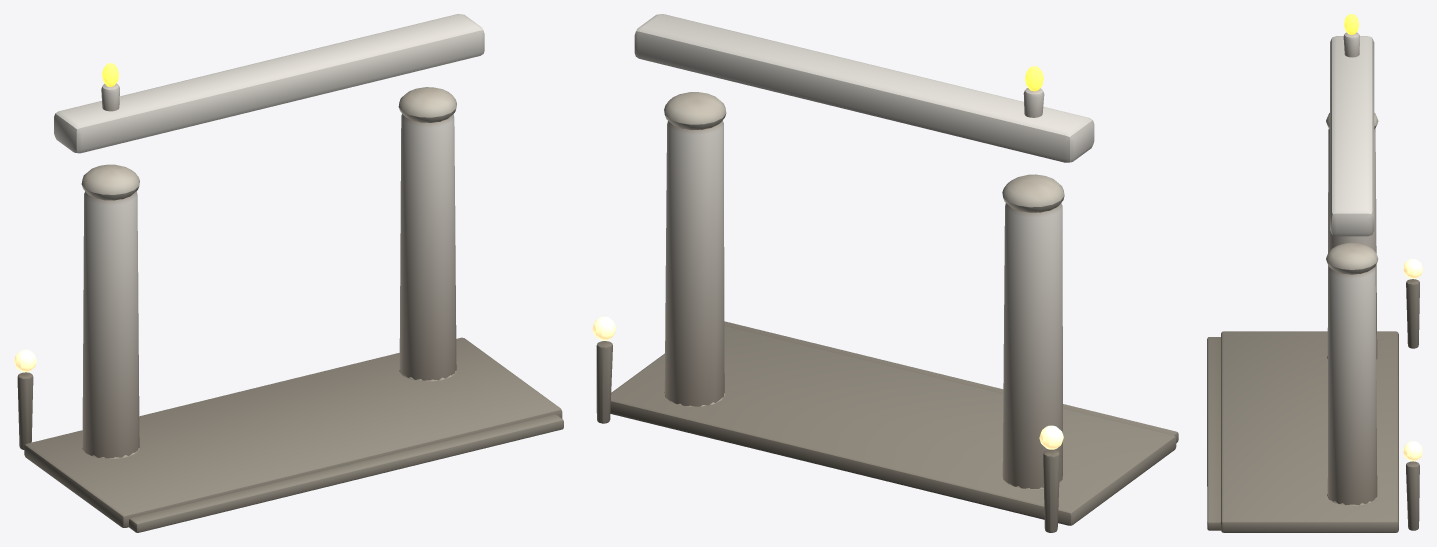
3 views of the same model, side by side, from view 1: azimuth 30°, elevation 25°; view 2: azimuth 150°, elevation 25°; view 3: azimuth 270°, elevation 25° (orthographic). The views are drawn at different scales.
Visible parts, largest first — view 1: gate_a64e783f; view 2: gate_a64e783f; view 3: gate_a64e783f.
Boxes of the visible parts, <box> form: gate_a64e783f: <box>14,14,563,532</box>; gate_a64e783f: <box>592,14,1178,532</box>; gate_a64e783f: <box>1207,14,1422,532</box>.
Size of the model in its own units: 5.35 by 4.62 by 2.54.
